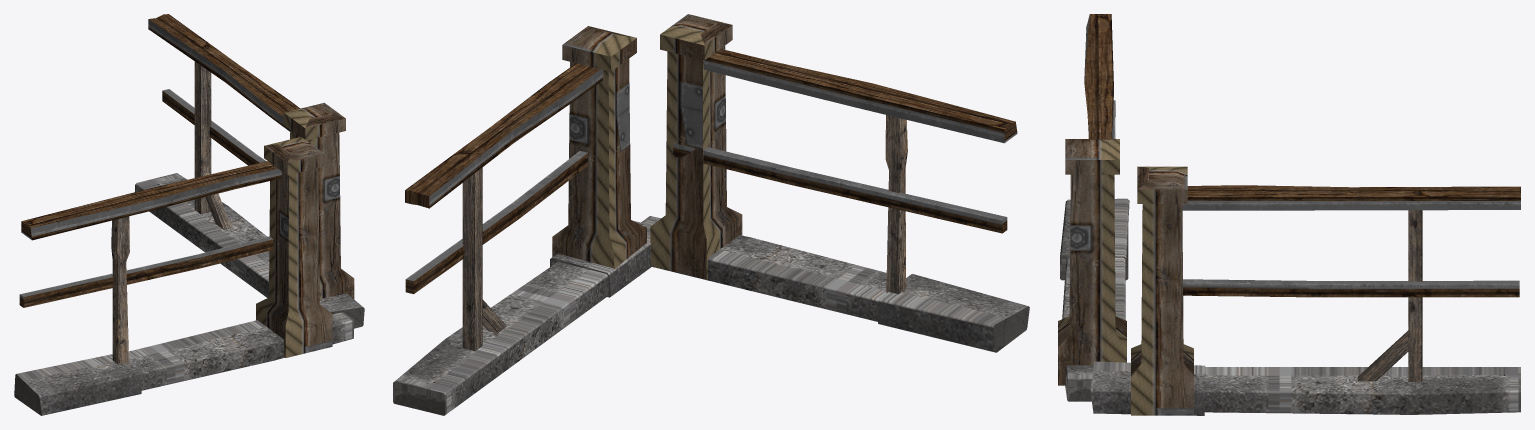
The model's file is MC_Battlements_Wall_F_Angle.fbx.
3 renders of one model, left to right at view 1: azimuth 30°, elevation 25°; view 2: azimuth 150°, elevation 25°; view 3: azimuth 270°, elevation 25°, orthographic. The views are drawn at different scales.
Visible parts, largest first — view 1: MC_Battlements_Wall_F_Angle_LOD0; view 2: MC_Battlements_Wall_F_Angle_LOD0; view 3: MC_Battlements_Wall_F_Angle_LOD0.
Boxes of the visible parts, box(x1,y1,x2,y2) form: MC_Battlements_Wall_F_Angle_LOD0: box(14, 14, 364, 415); MC_Battlements_Wall_F_Angle_LOD0: box(393, 14, 1029, 415); MC_Battlements_Wall_F_Angle_LOD0: box(1058, 14, 1520, 415).
Size of what is drawn, in the model's own units: 218 by 120 by 220.
